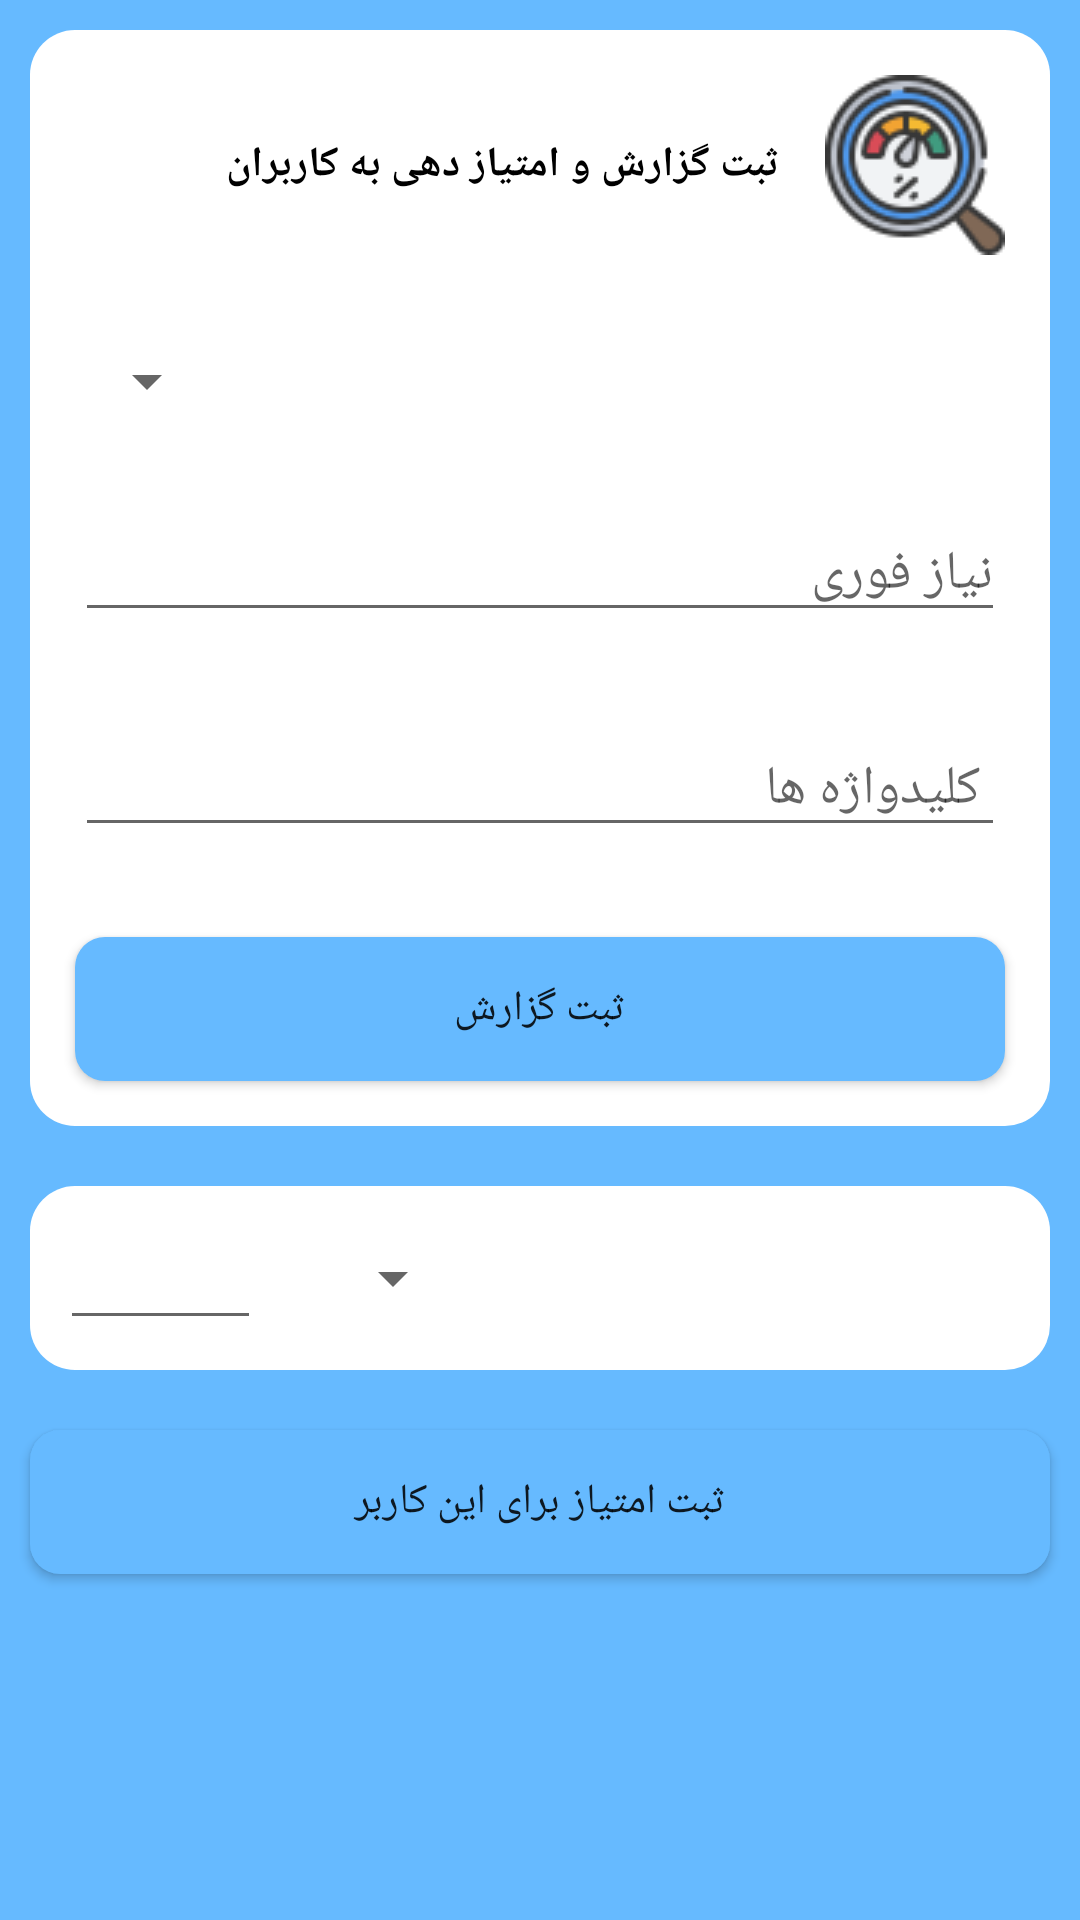

Locate icon controls on the screen. Image size 1080x1920, boxes as {"left": x1, "top": y1, "right": x2, "bottom": y2}.
score: {"left": 825, "top": 75, "right": 1005, "bottom": 255}
